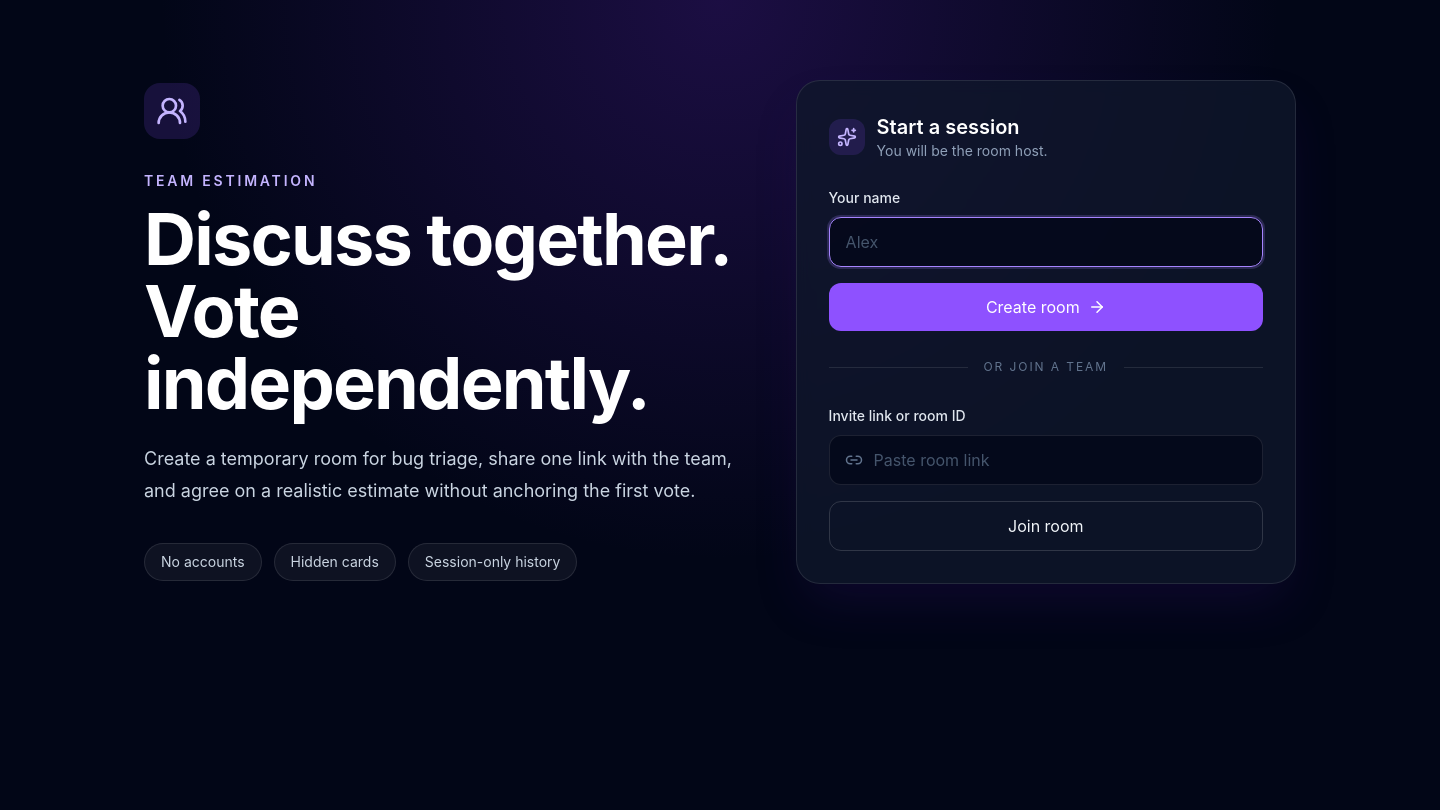
it: App room flow › creates a room and restores the host identity
In the field labelled "Your name": (1046, 242) [829,217,1263,267], type "Alex Host"
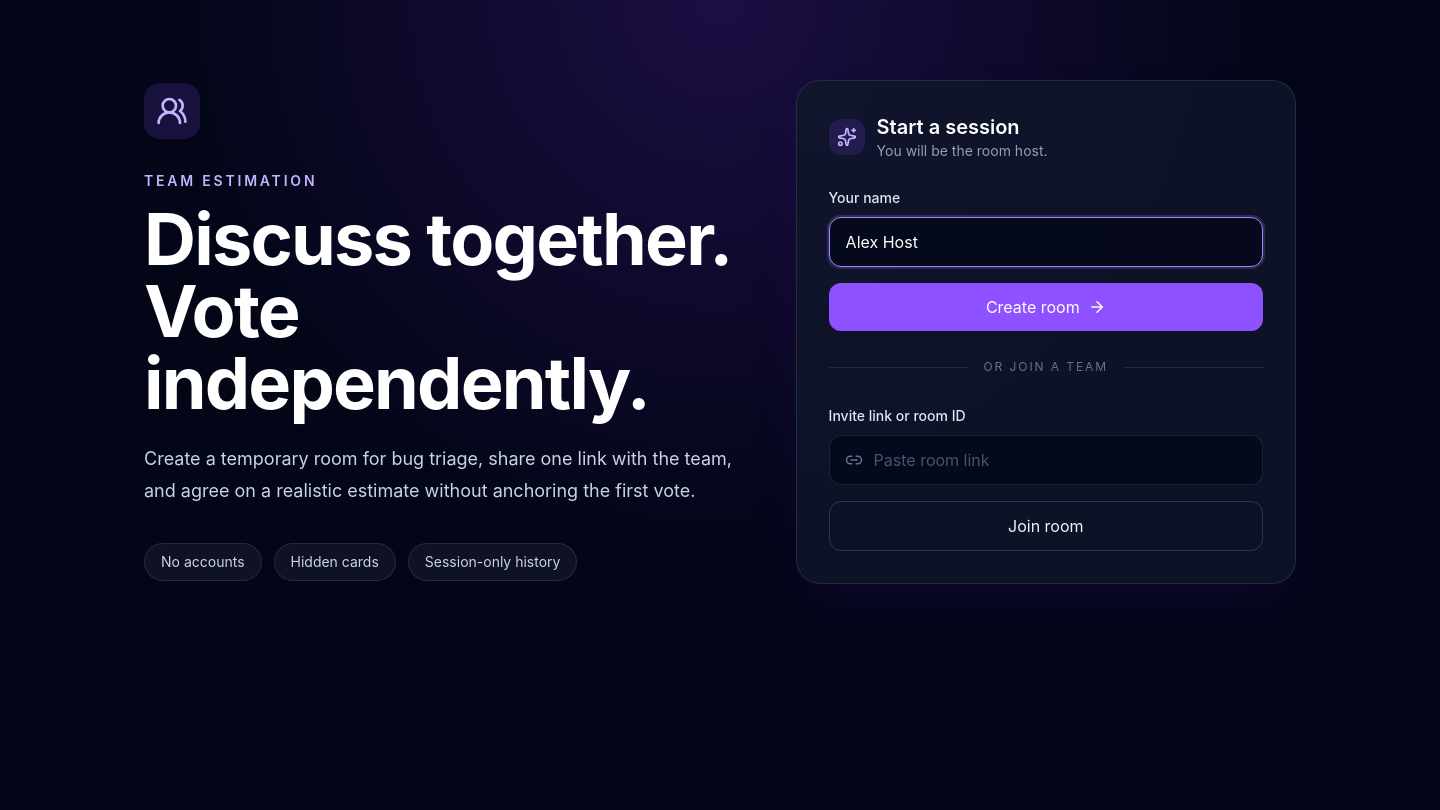
Click the button "Create room": (1046, 307) [829,283,1263,331]
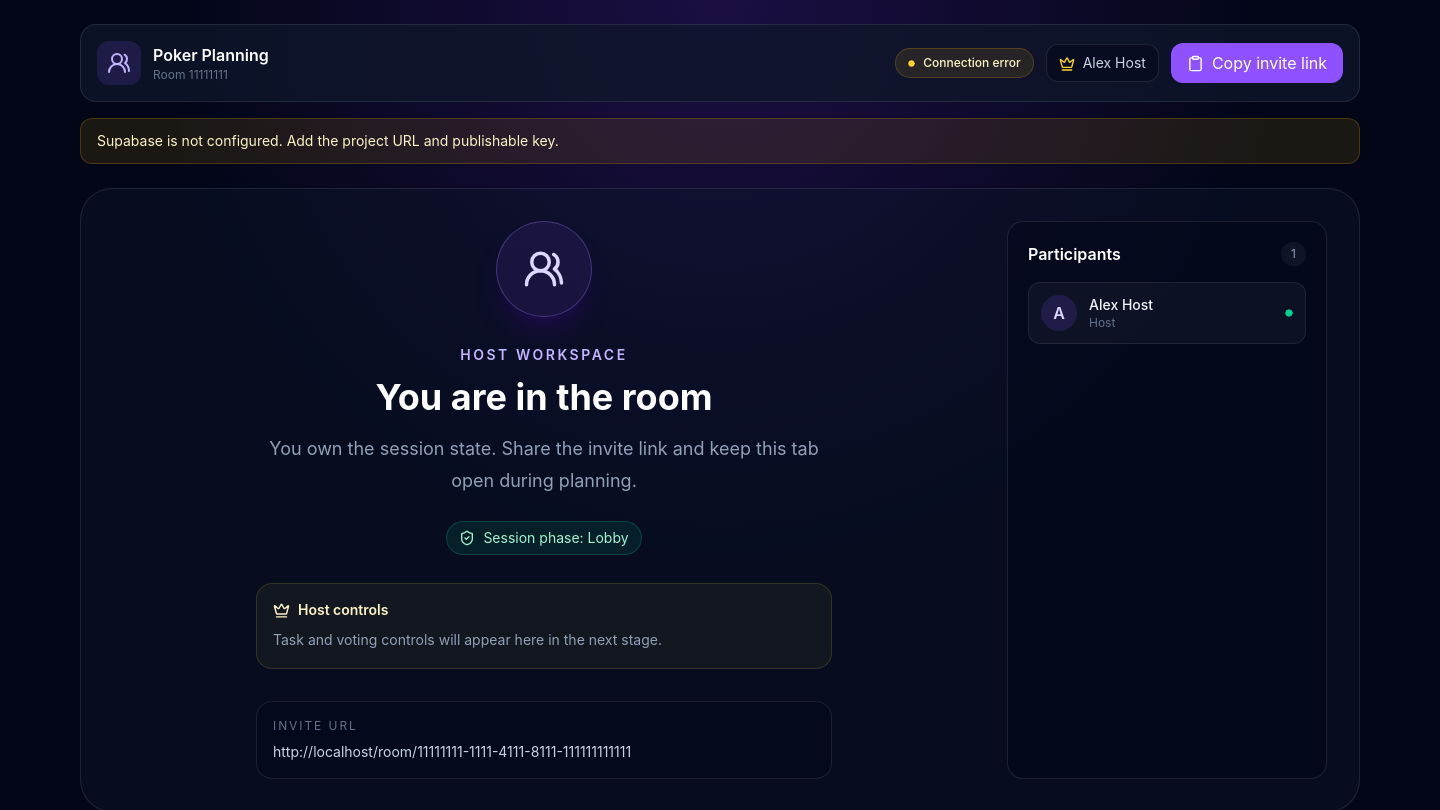
Now the heading "You are in the room" is shown, box [375,375,713,419]
Now the text "Alex Host" is shown 2 times, box [1046,44,1159,82]; [1089,296,1153,313]
